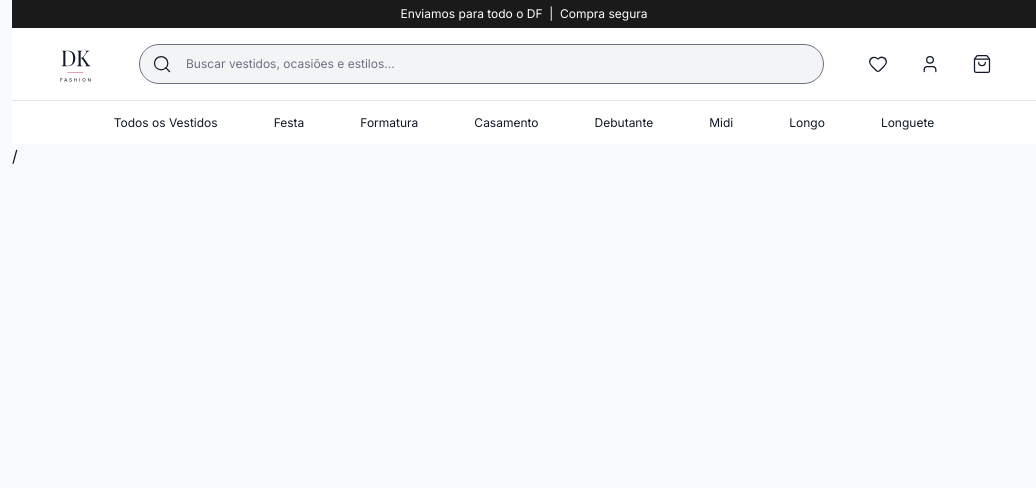
Header › mostra os módulos internos para {"id":"222","name":"Gerente DK","email":"gerente@dk.com","role":"manager"}
This screenshot has width=1036, height=488.
Click the button named "Minha conta" at (930, 64), box [908,42,952,86]
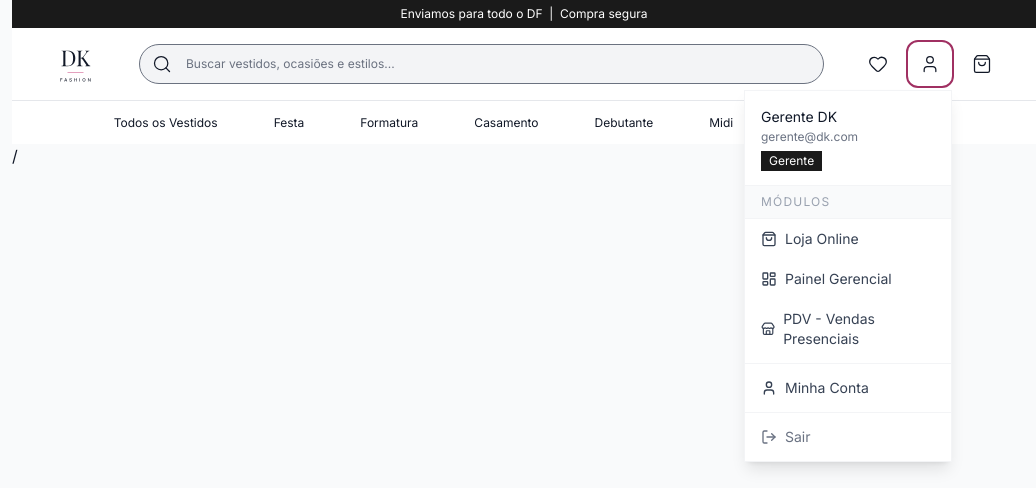
Expected: the text "Gerente" is shown, [761,151,822,171]
Expected: the link "PDV - Vendas Presenciais" is shown, [761,310,875,347]
